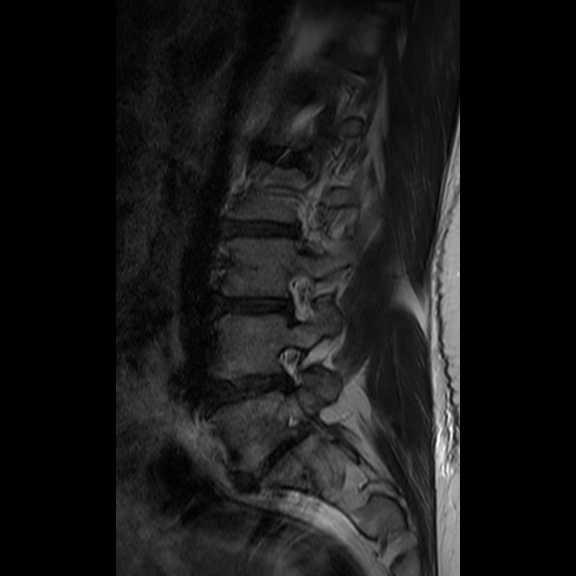RFS0: (264, 334, 310, 397)
